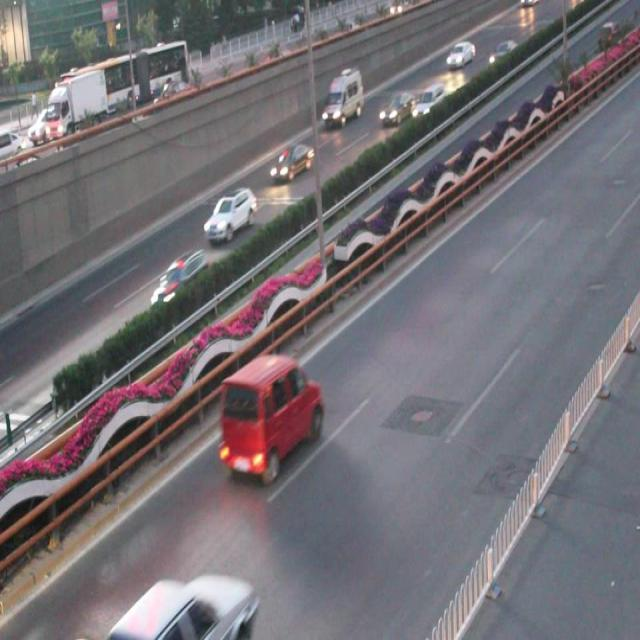car: (219, 354, 323, 484), (106, 558, 258, 640), (147, 250, 215, 308), (203, 185, 257, 242), (268, 138, 312, 183), (377, 88, 414, 124), (410, 85, 444, 116)
truck: (322, 67, 363, 127)
